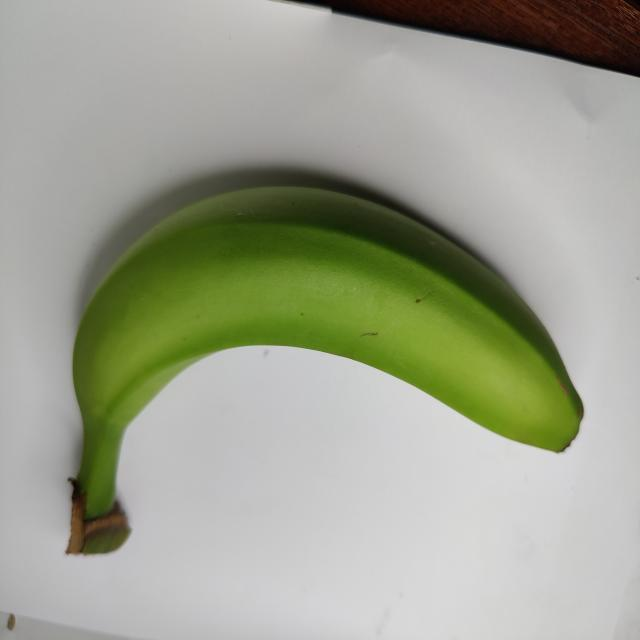raw: (29, 162, 594, 588)
